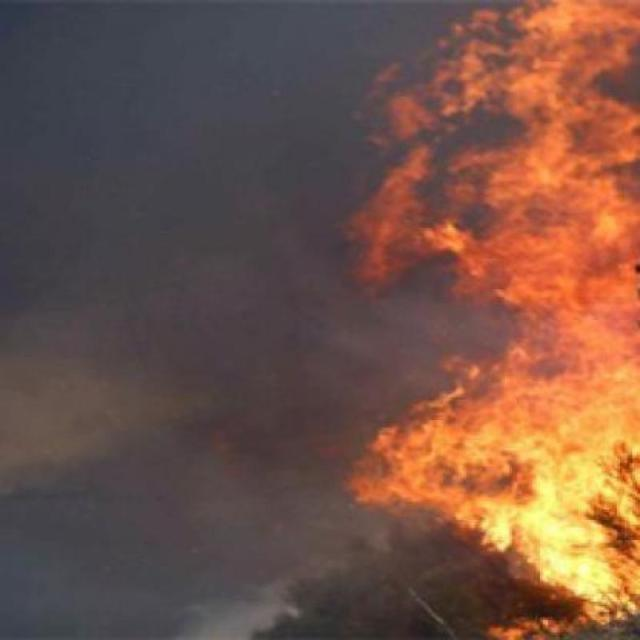Fire: (340, 121, 640, 504), (445, 509, 640, 640)
